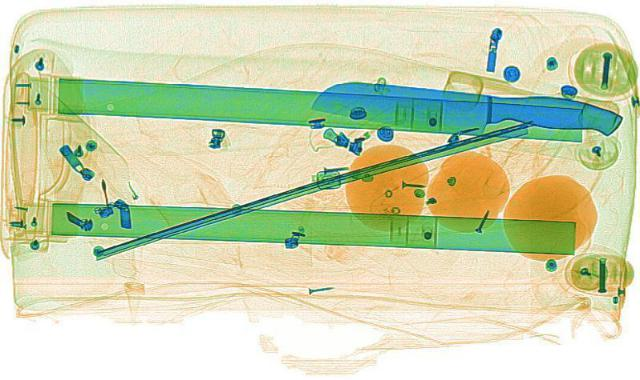Knife: (304, 73, 624, 148)
